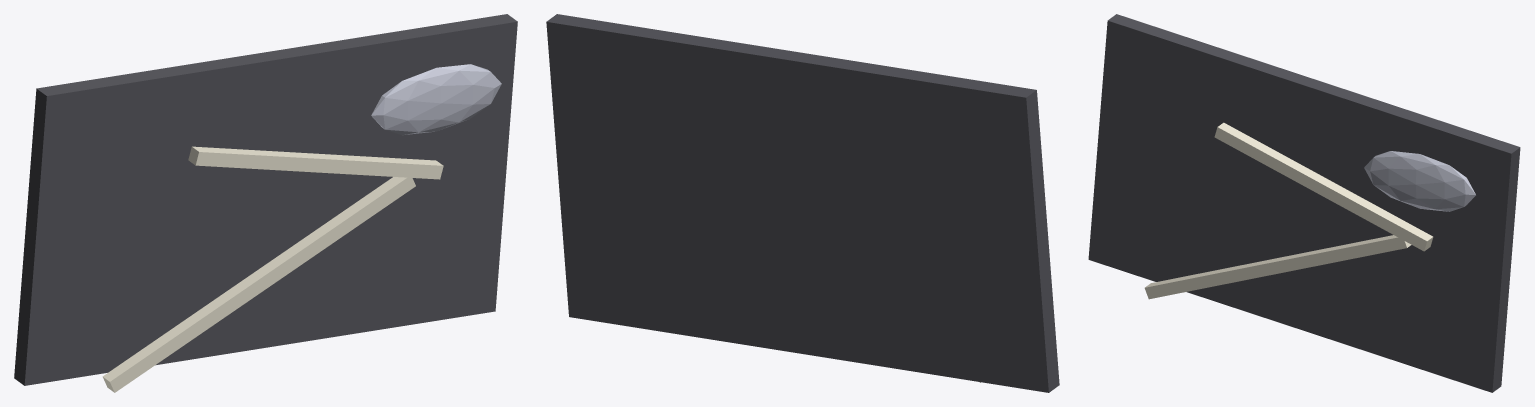
File: 04_weathering_wear_overlay_4.glb
3 views of the same model, side by side, from view 1: azimuth 30°, elevation 25°; view 2: azimuth 150°, elevation 25°; view 3: azimuth 330°, elevation 25° (orthographic). The views are drawn at different scales.
Visible parts, largest first — view 1: wear_plate, scratch_a, rust_or_moss_spot, scratch_b; view 2: wear_plate; view 3: wear_plate, rust_or_moss_spot, scratch_b, scratch_a.
Boxes of the visible parts, left/top/right/bottom form: wear_plate: left=14, top=14, right=517, bottom=385; scratch_a: left=102, top=177, right=415, bottom=392; rust_or_moss_spot: left=371, top=64, right=501, bottom=135; scratch_b: left=188, top=146, right=443, bottom=179; wear_plate: left=546, top=14, right=1059, bottom=392; wear_plate: left=1088, top=14, right=1520, bottom=392; rust_or_moss_spot: left=1364, top=151, right=1475, bottom=211; scratch_b: left=1214, top=122, right=1433, bottom=251; scratch_a: left=1144, top=235, right=1411, bottom=299.
Bounding box in the file's own units: 1.36 × 0.8537 × 0.134.
